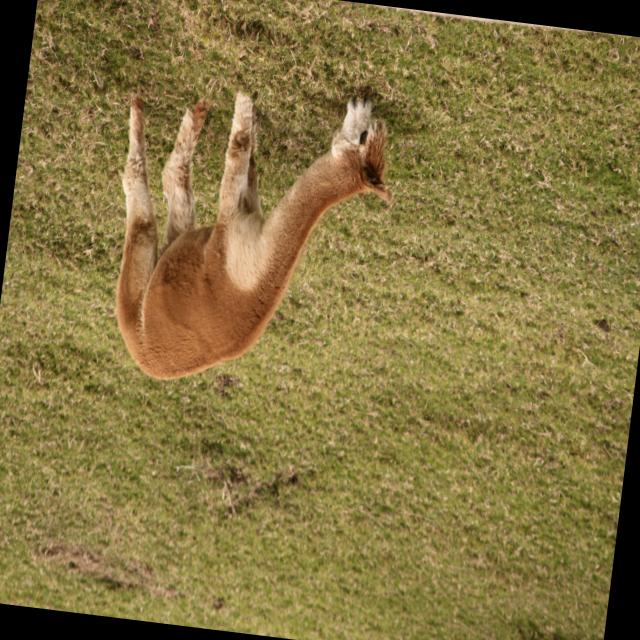alpaca: (96, 64, 400, 404)
